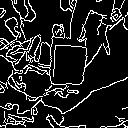cube: (43, 35, 90, 91)
